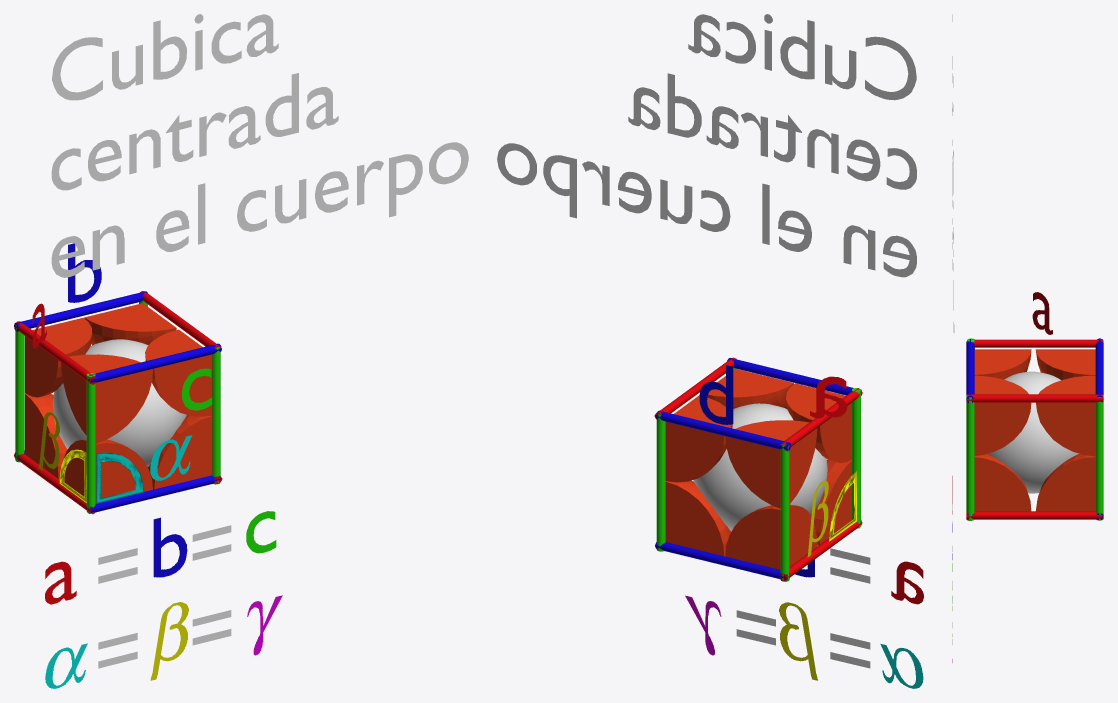
Rendered from cubica centrada en el cuerpo.glb.
The picture shows the model from 3 angles, left to right: view 1: azimuth 30°, elevation 25°; view 2: azimuth 150°, elevation 25°; view 3: azimuth 270°, elevation 25°; orthographic projection. The views are drawn at different scales.
Visible parts, largest first — view 1: Text.169_Text.170, Sphere.292_Sphere.230, Sphere.302_Sphere.240, Sphere.294_Sphere.232, Sphere.296_Sphere.234, Sphere.293_Sphere.231, Sphere.291_Sphere.227, Sphere.298_Sphere.236, Sphere.295_Sphere.233, Cylinder.410_Cylinder.357, Cylinder.401_Cylinder.348, Cylinder.408_Cylinder.355 (+13 smaller); view 2: Text.169_Text.170, Sphere.302_Sphere.240, Sphere.296_Sphere.234, Sphere.295_Sphere.233, Sphere.298_Sphere.236, Sphere.297_Sphere.235, Sphere.292_Sphere.230, Sphere.294_Sphere.232, Sphere.291_Sphere.227, Cylinder.408_Cylinder.355, Cylinder.405_Cylinder.352, Cylinder.407_Cylinder.354 (+13 smaller); view 3: Sphere.302_Sphere.240, Sphere.298_Sphere.236, Sphere.294_Sphere.232, Sphere.297_Sphere.235, Sphere.293_Sphere.231, Sphere.296_Sphere.234, Sphere.292_Sphere.230, Cylinder.404_Cylinder.351, Cylinder.403_Cylinder.350, Cylinder.411_Cylinder.358, Cylinder.402_Cylinder.349, Cylinder.405_Cylinder.352 (+4 smaller).
Part boxes in pixels (x1,y1,x2,y2): Text.169_Text.170: (51, 14, 468, 277); Sphere.292_Sphere.230: (61, 354, 152, 443); Sphere.302_Sphere.240: (52, 339, 186, 466); Sphere.294_Sphere.232: (145, 329, 212, 416); Sphere.296_Sphere.234: (25, 317, 92, 397); Sphere.293_Sphere.231: (148, 415, 212, 489); Sphere.291_Sphere.227: (63, 439, 152, 503); Sphere.298_Sphere.236: (84, 303, 176, 345); Sphere.295_Sphere.233: (25, 393, 67, 479); Cylinder.410_Cylinder.357: (86, 373, 95, 513); Cylinder.401_Cylinder.348: (89, 343, 221, 383); Cylinder.408_Cylinder.355: (15, 324, 24, 462); Text.169_Text.170: (497, 14, 916, 277); Sphere.302_Sphere.240: (693, 403, 827, 531); Sphere.296_Sphere.234: (725, 420, 817, 508); Sphere.295_Sphere.233: (725, 504, 817, 569); Sphere.298_Sphere.236: (665, 395, 732, 482); Sphere.297_Sphere.235: (665, 480, 731, 556); Sphere.292_Sphere.230: (786, 383, 851, 462); Sphere.294_Sphere.232: (707, 369, 793, 408); Sphere.291_Sphere.227: (811, 459, 851, 544); Cylinder.408_Cylinder.355: (780, 444, 789, 581); Cylinder.405_Cylinder.352: (656, 414, 665, 551); Cylinder.407_Cylinder.354: (656, 410, 791, 451); Sphere.302_Sphere.240: (987, 371, 1079, 493); Sphere.298_Sphere.236: (1036, 375, 1095, 456); Sphere.294_Sphere.232: (974, 375, 1031, 455); Sphere.297_Sphere.235: (1036, 454, 1095, 511); Sphere.293_Sphere.231: (974, 454, 1031, 511); Sphere.296_Sphere.234: (1035, 349, 1095, 380); Sphere.292_Sphere.230: (974, 349, 1031, 379); Cylinder.404_Cylinder.351: (967, 394, 1103, 402); Cylinder.403_Cylinder.350: (966, 511, 1102, 519); Cylinder.411_Cylinder.358: (967, 339, 1103, 347); Cylinder.402_Cylinder.349: (966, 395, 974, 520); Cylinder.405_Cylinder.352: (1095, 395, 1103, 520).
Size of the model in its own units: 1.74 by 2.58 by 0.596.
